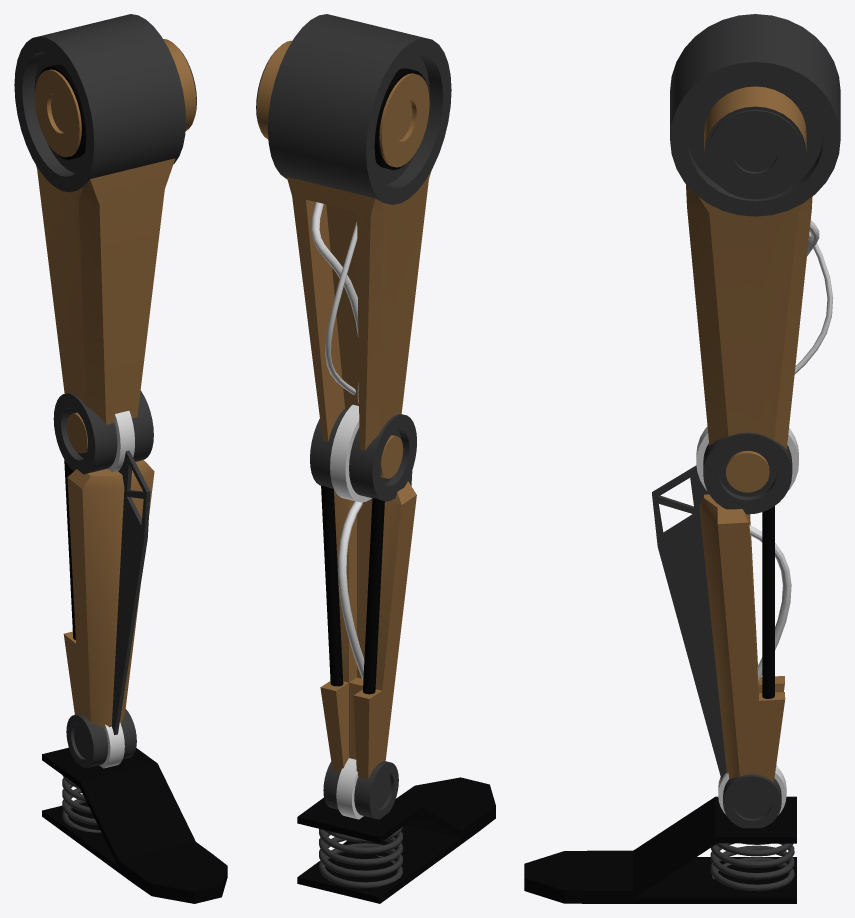
File: Leg_right.fbx
3 views of the same model, side by side, from view 1: azimuth 30°, elevation 25°; view 2: azimuth 150°, elevation 25°; view 3: azimuth 270°, elevation 25° (orthographic). The views are drawn at different scales.
Visible parts, largest first — view 1: Leg_right; view 2: Leg_right; view 3: Leg_right.
Part boxes in pixels (bbox=[...]): Leg_right: bbox=[14, 14, 227, 903]; Leg_right: bbox=[256, 14, 495, 903]; Leg_right: bbox=[524, 14, 840, 903].
Bounding box in the file's own units: 0.1593 × 1 × 0.339.
